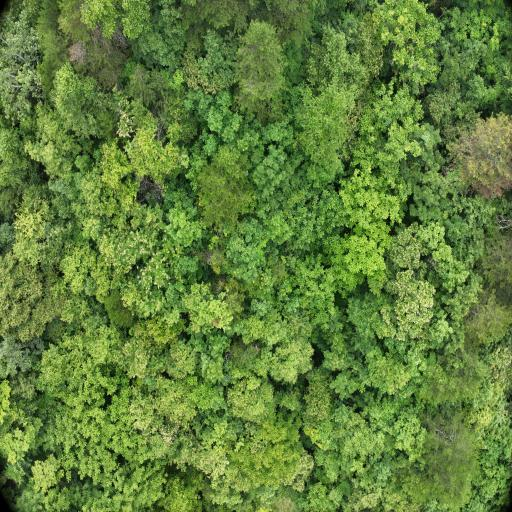dead-tree: (140, 184, 158, 200), (70, 44, 84, 62), (90, 30, 101, 38), (116, 31, 123, 43)
